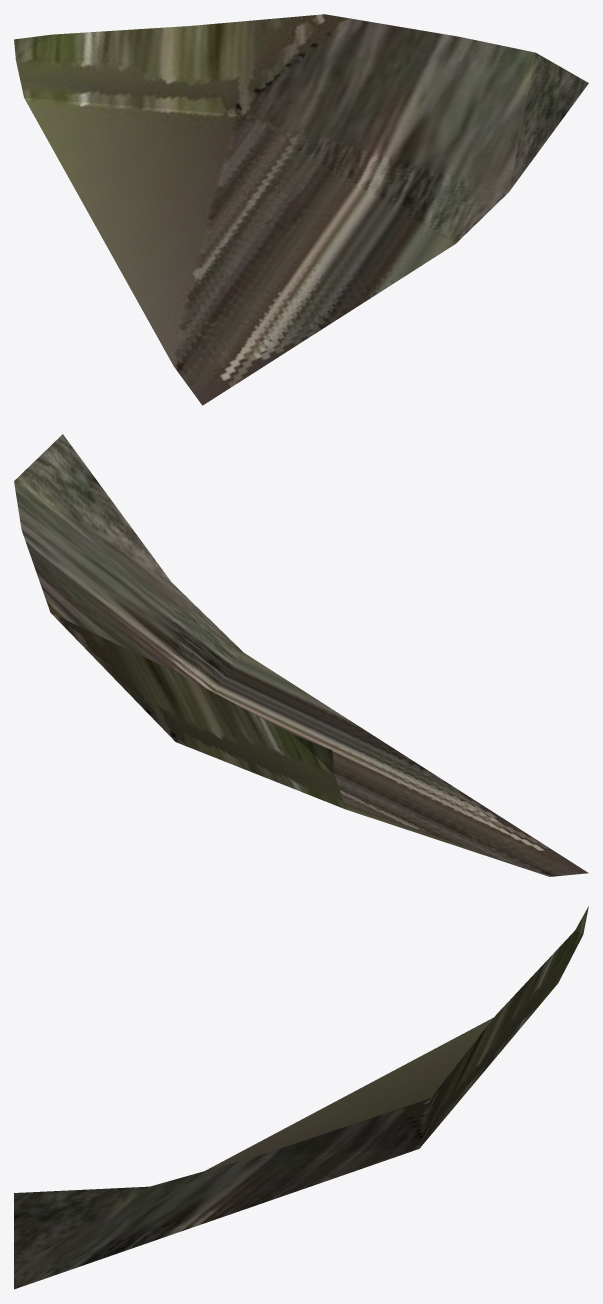
The picture shows the model from 3 angles, top to bottom: view 1: azimuth 30°, elevation 25°; view 2: azimuth 150°, elevation 25°; view 3: azimuth 270°, elevation 25°; orthographic projection. The views are drawn at different scales.
Size of the model in its own units: 1.95 by 1.1 by 1.65.
Materials: 1 (1 with a texture image).
